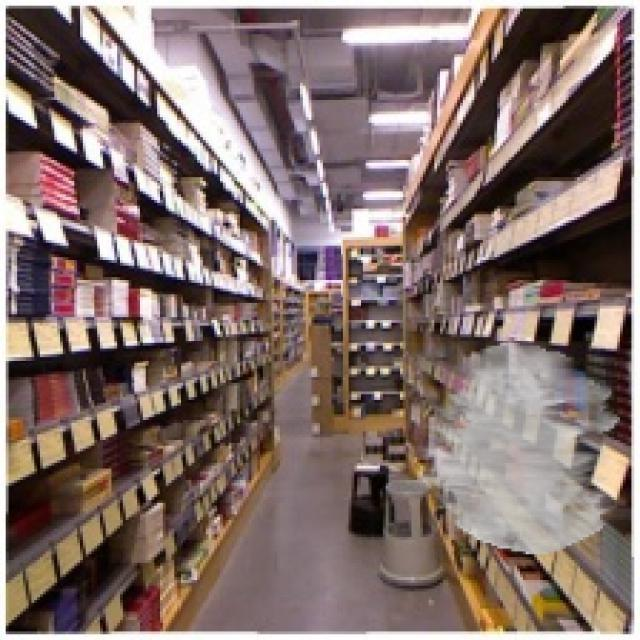Smoke: (417, 343, 620, 554)
